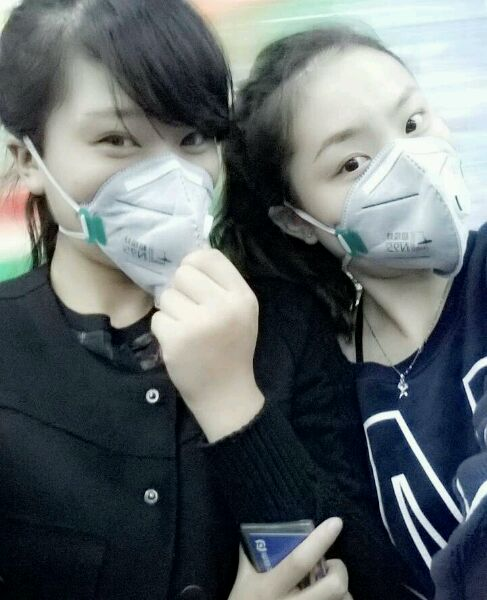face_mask: (288, 41, 458, 279), (48, 53, 218, 276)
